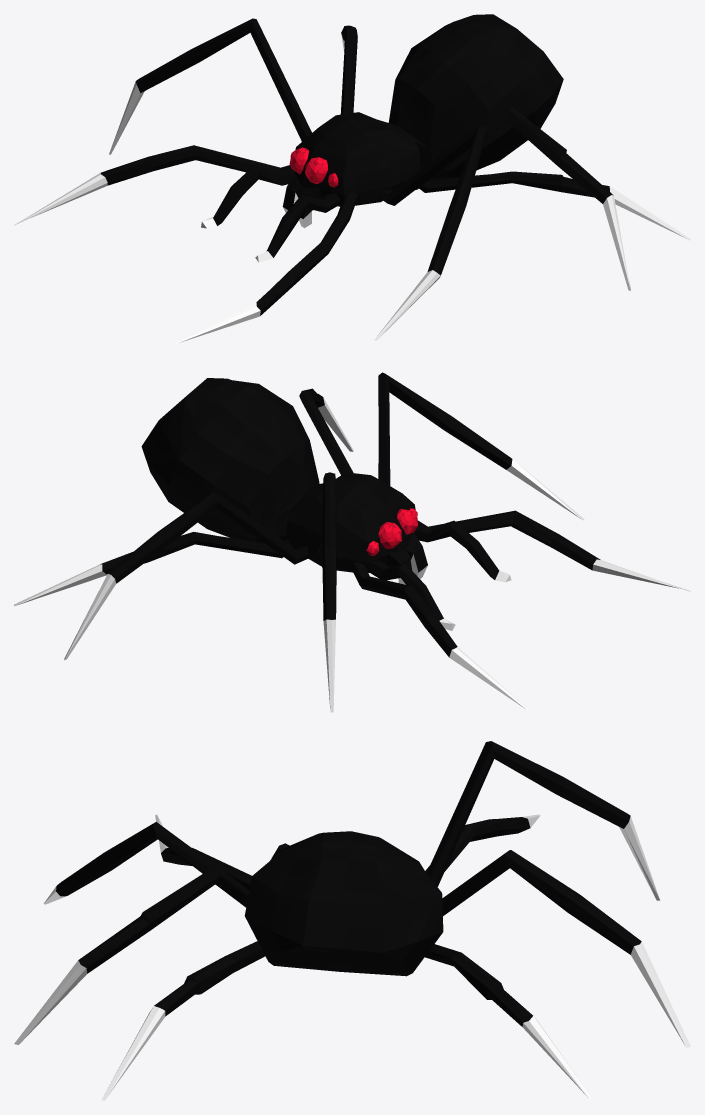
File: spiderAttack15.obj
3 renders of one model, top to bottom at view 1: azimuth 30°, elevation 25°; view 2: azimuth 150°, elevation 25°; view 3: azimuth 270°, elevation 25°, orthographic. The views are drawn at different scales.
Visible parts, largest first — view 1: Cube.004_Cube.005; view 2: Cube.004_Cube.005; view 3: Cube.004_Cube.005.
Boxes of the visible parts, left/top/right/bottom form: Cube.004_Cube.005: left=14, top=14, right=690, bottom=343; Cube.004_Cube.005: left=14, top=372, right=690, bottom=712; Cube.004_Cube.005: left=14, top=741, right=690, bottom=1100.
Bounding box in the file's own units: 34.68 × 11.38 × 34.65.
